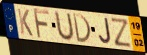D: (72, 12, 92, 44)
F: (32, 8, 51, 40)
J: (98, 17, 113, 46)
K: (16, 7, 35, 38)
U: (54, 10, 75, 43)
Z: (110, 17, 133, 49)
